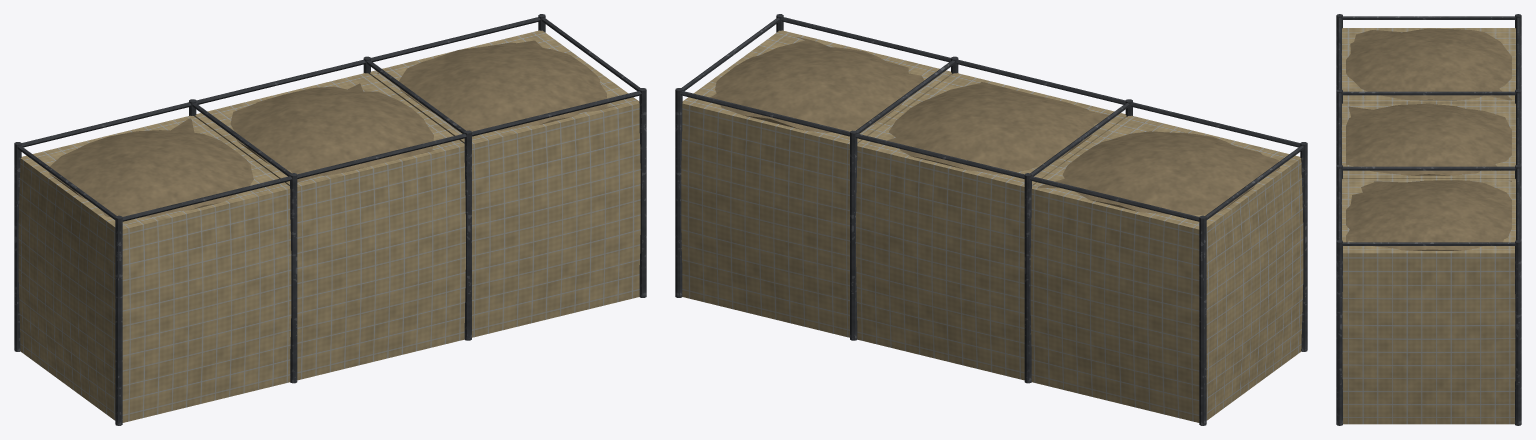
The model's file is COV_Hesco_Wall_3x.glb.
The picture shows the model from 3 angles, left to right: view 1: azimuth 30°, elevation 25°; view 2: azimuth 150°, elevation 25°; view 3: azimuth 270°, elevation 25°; orthographic projection. The views are drawn at different scales.
Visible parts, largest first — view 1: COV_Hesco_Wall_3x; view 2: COV_Hesco_Wall_3x; view 3: COV_Hesco_Wall_3x.
Part boxes in pixels (box(x1,y1,x2,y2)): COV_Hesco_Wall_3x: box(14, 14, 646, 425); COV_Hesco_Wall_3x: box(675, 14, 1307, 425); COV_Hesco_Wall_3x: box(1336, 14, 1521, 425).
Bounding box in the file's own units: 3.62 × 1.38 × 1.24.
3 materials, 3 textured.
